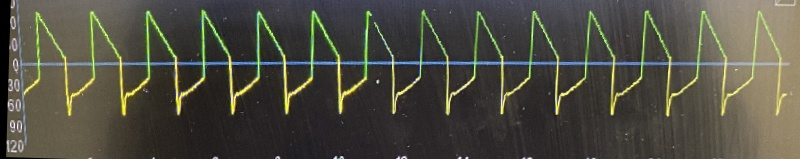peepi: (25, 1, 796, 120)
